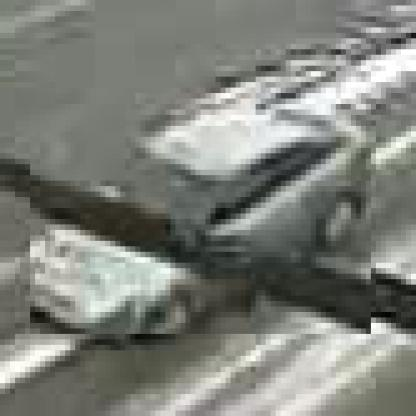car: (26, 105, 372, 340)
